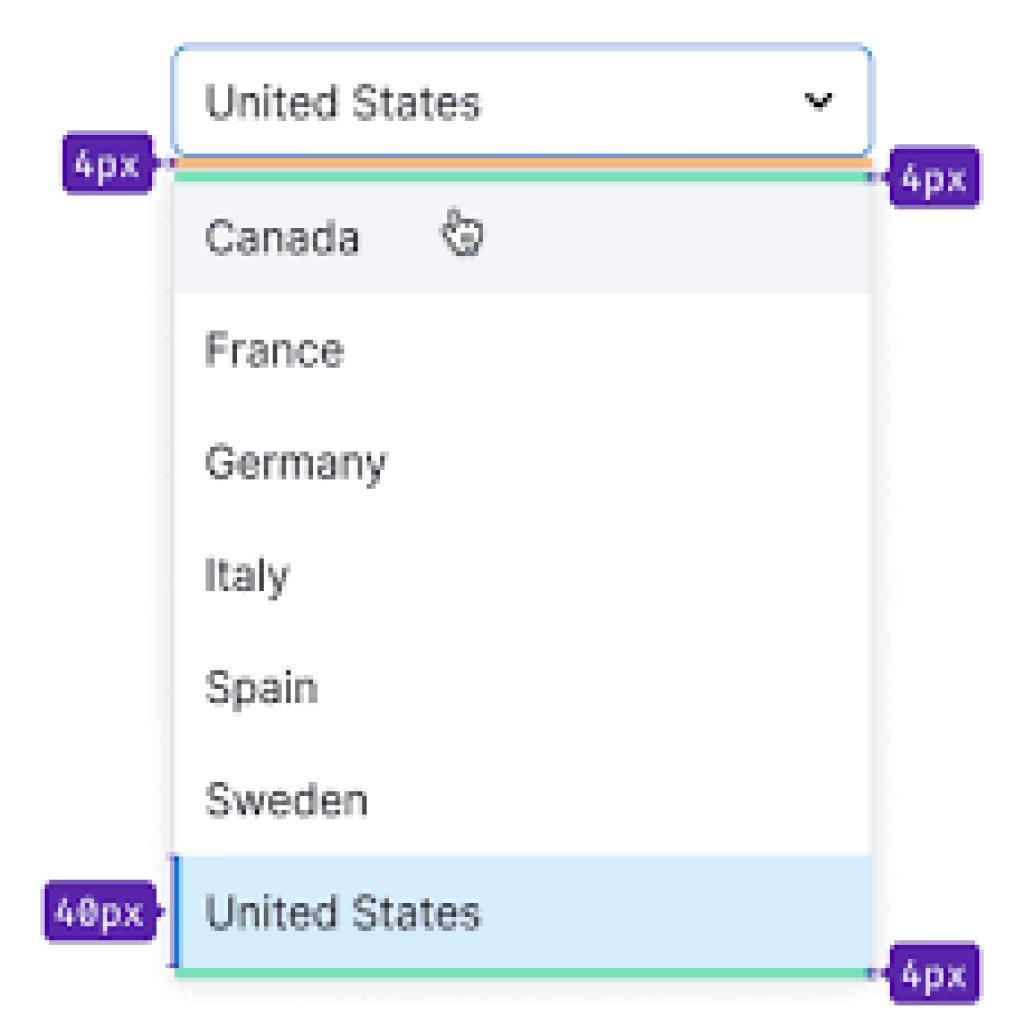button: (170, 857, 871, 971)
dropdown: (172, 46, 872, 154)
